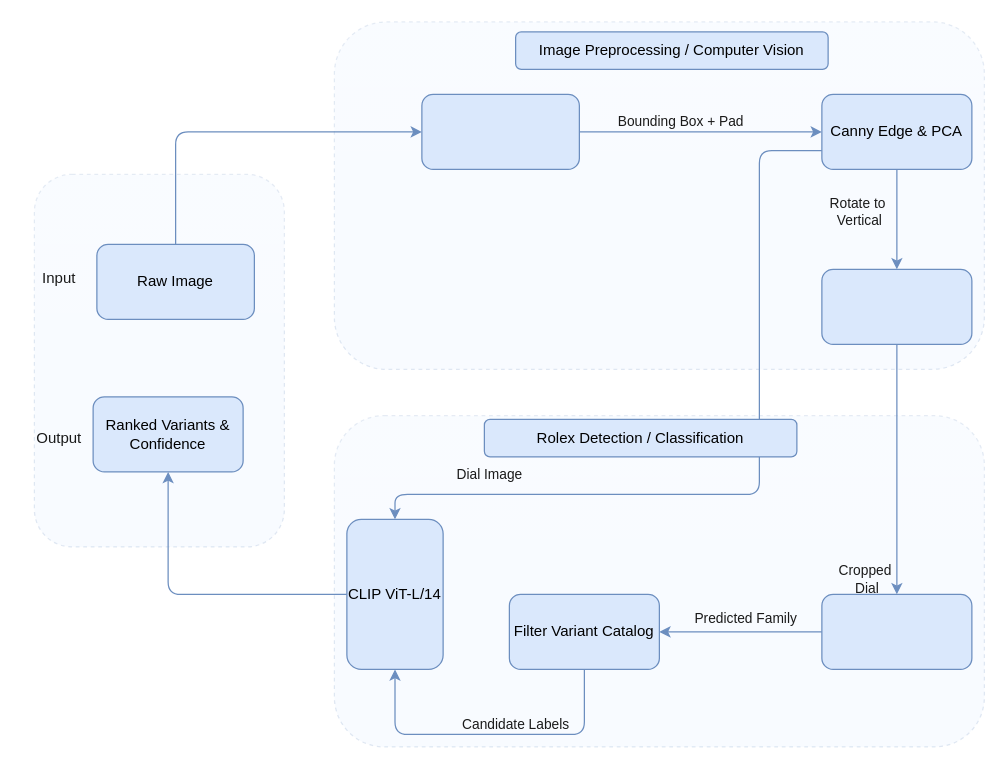
Image size: 1006x769. Some labels were removed from this diagram. The centre of each missing label's shape, as x and y in pixels:
"Contour Dial Isolation" goes at point (896, 306).
"EfficientNet-B0" goes at point (896, 631).
"Grounding Dino" goes at point (500, 131).
